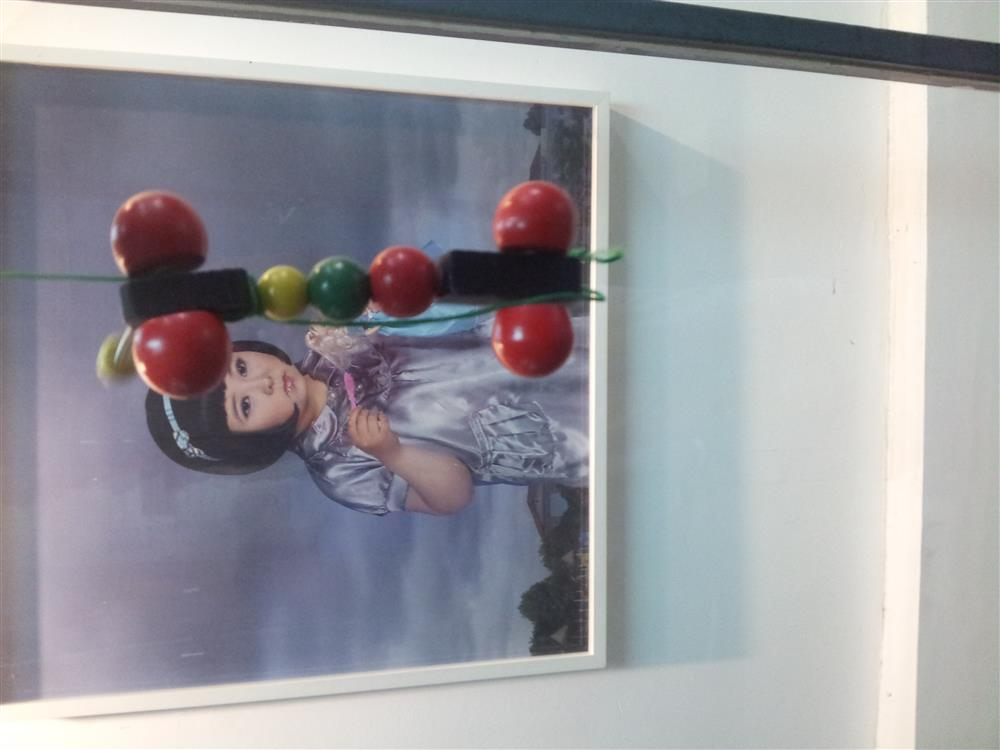caterpillar: (98, 158, 601, 423)
